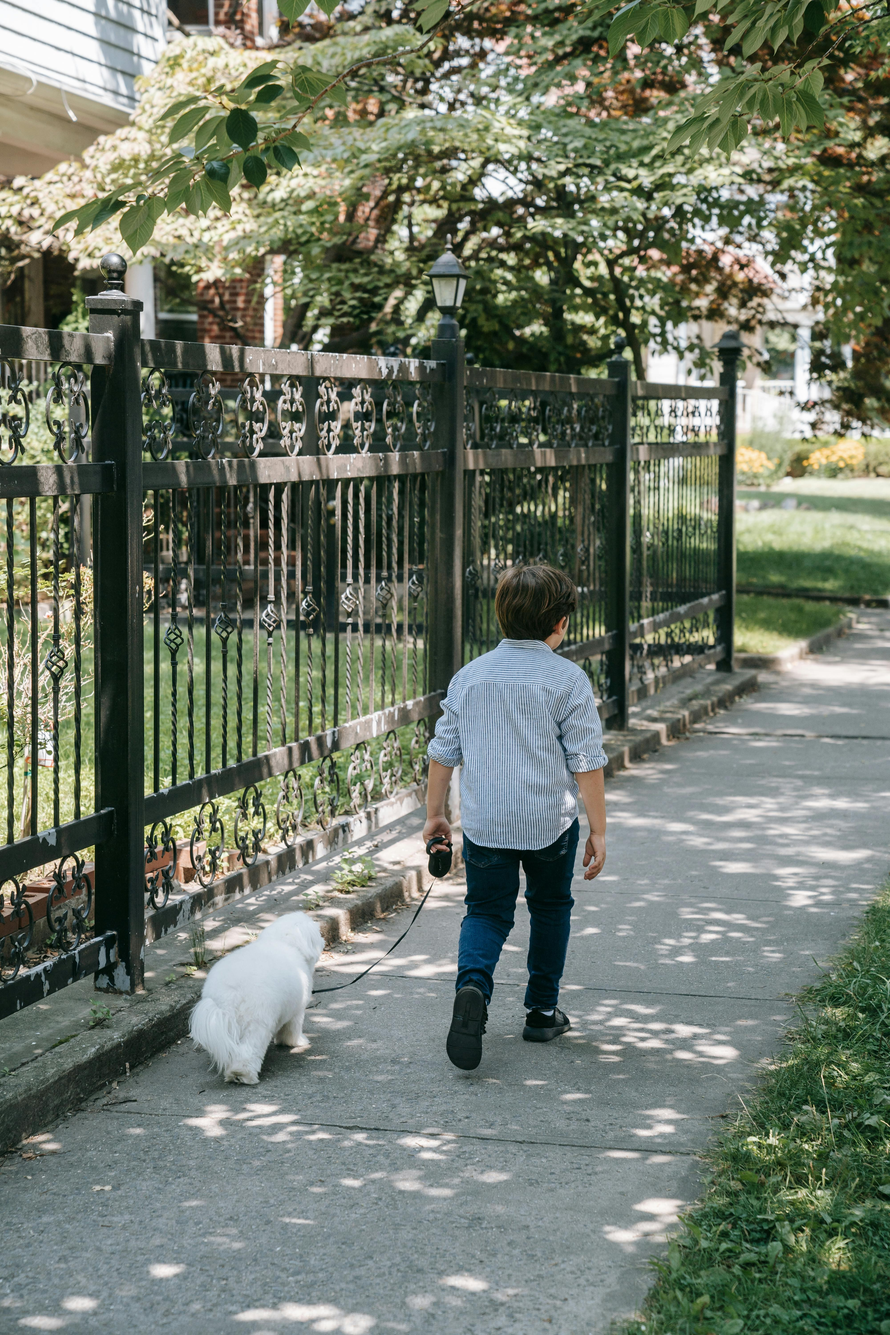Human: (408, 559, 623, 1067)
